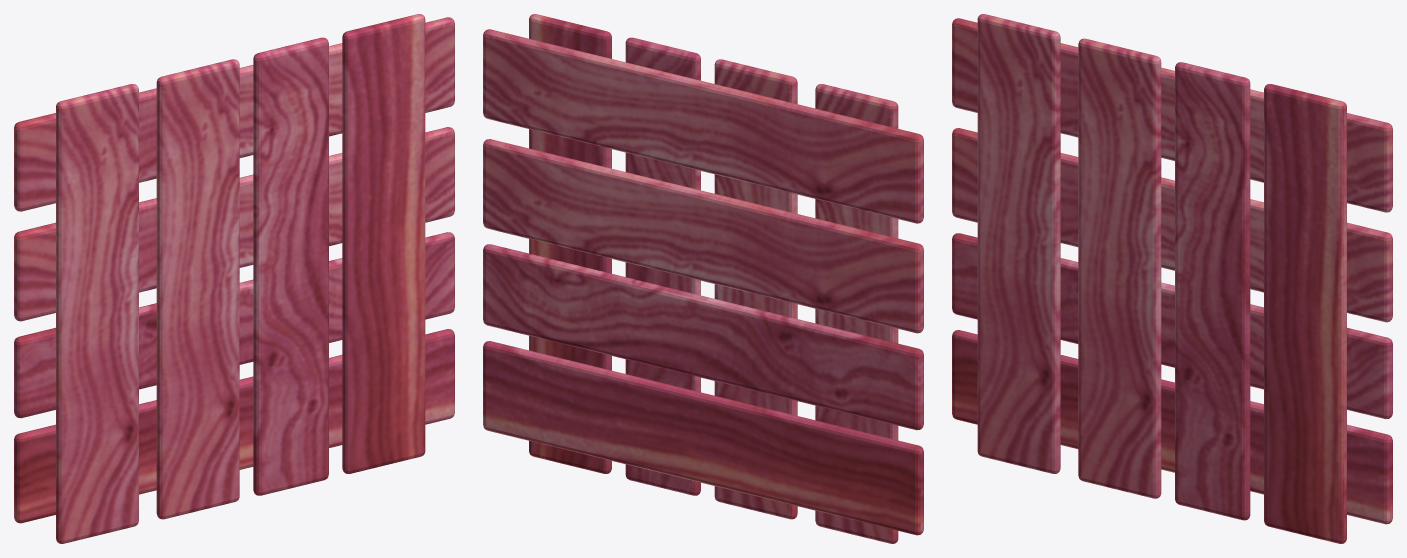
Rendered from CratePiece.fbx.
3 renders of one model, left to right at view 1: azimuth 30°, elevation 25°; view 2: azimuth 150°, elevation 25°; view 3: azimuth 330°, elevation 25°, orthographic.
Visible parts, largest first — view 1: CratePiece; view 2: CratePiece; view 3: CratePiece.
Part boxes in pixels (left/top/right/bottom): CratePiece: left=14, top=14, right=454, bottom=543; CratePiece: left=483, top=14, right=923, bottom=543; CratePiece: left=952, top=14, right=1392, bottom=543.
Bounding box in the file's own units: 316 × 304 × 17.52.
